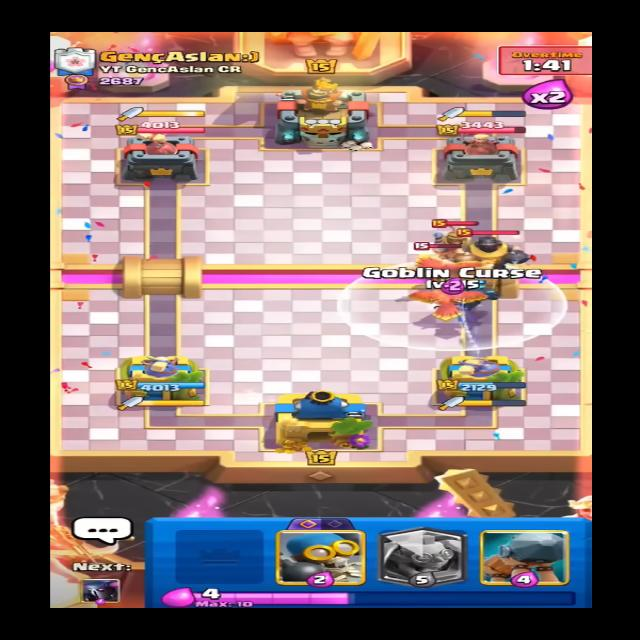Megaknight: (444, 228, 538, 272)
Pheonix: (385, 242, 494, 291)
Prince: (418, 212, 478, 263)
